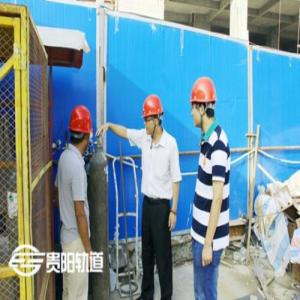red: (190, 77, 219, 132), (67, 103, 96, 155), (142, 93, 166, 138)
